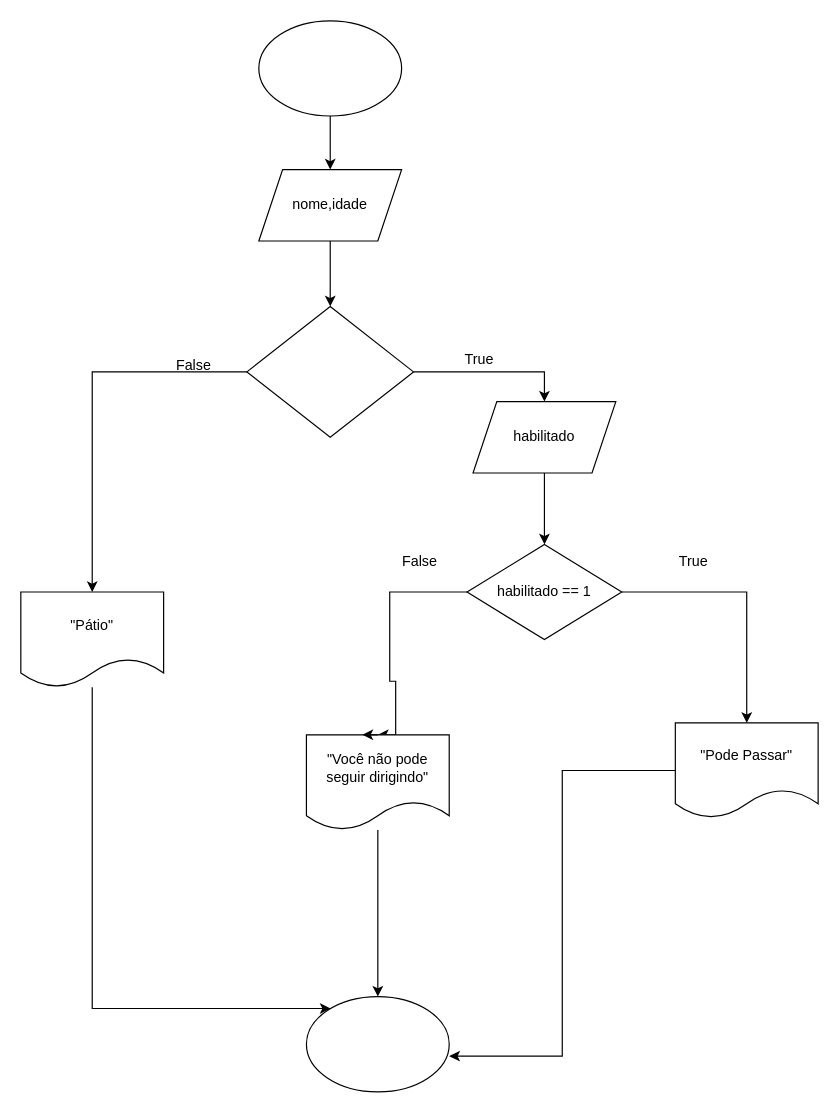
Image size: 839x1113. Some labels were removed from this diagram. The shapes that lost their labels are listed below. From the top down, each one's centre as x and y in pixels, then its label:
At (330,68): "inicio".
At (330,371): "idade>=18".
At (377,1043): "fim".
